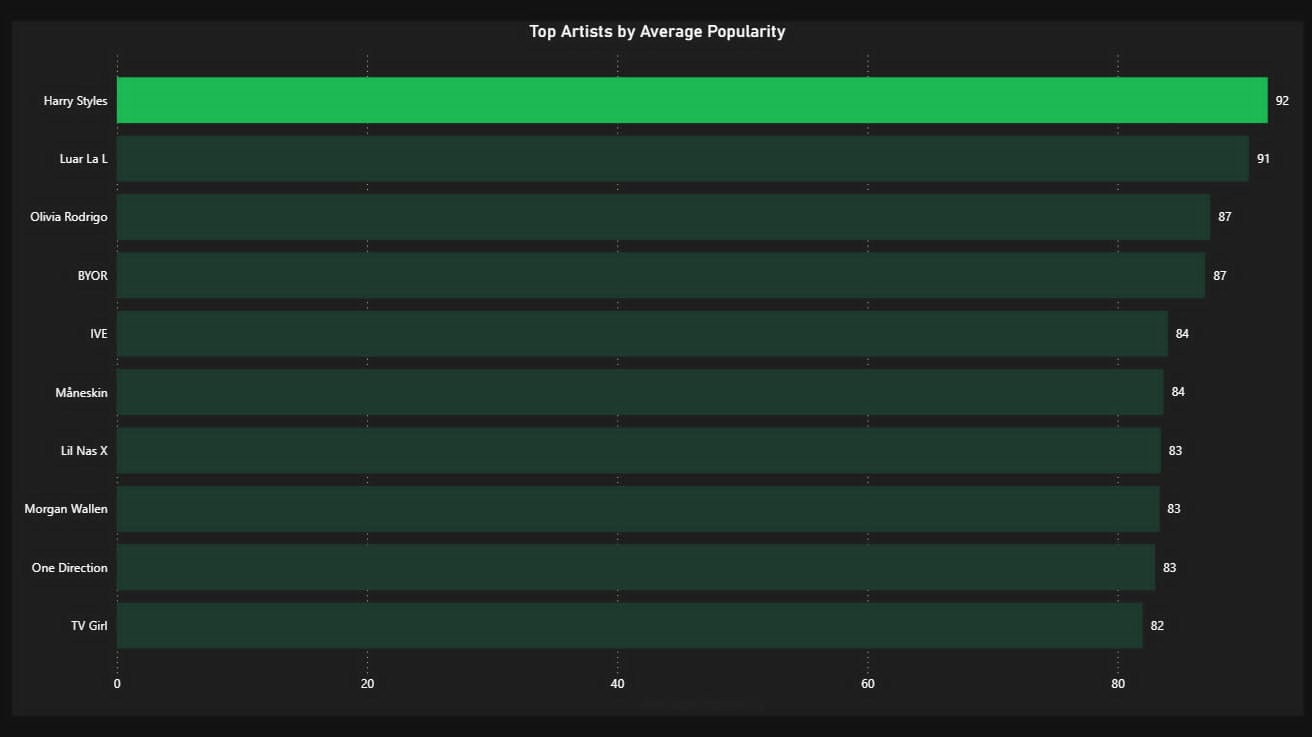

Layout of this report page (visuals, bound fields, positions):
{"tool":"powerbi","page":{"name":"Artist Leaderboard","canvas":[1280,720],"ordinal":2},"visuals":[{"type":"clusteredBarChart","title":"Top Artists by Average Popularity","fields":{"Category":["top_artist.artist"],"Y":["Avg(top_artist.avg_popularity)"]},"box":[12.6,21.4,1255.7,676],"z":1000}]}

Visuals, with their boxes in screenshot pixels (x1, y1, x2, y2), scaled from the page's 1280x720 canvas onto the 1312x737 screenshot:
"Top Artists by Average Popularity" clusteredBarChart: [left=13, top=22, right=1300, bottom=714]
